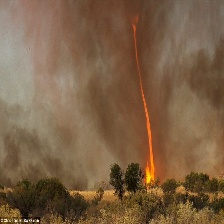fire: (129, 11, 159, 187)
smoke: (1, 1, 223, 180)
